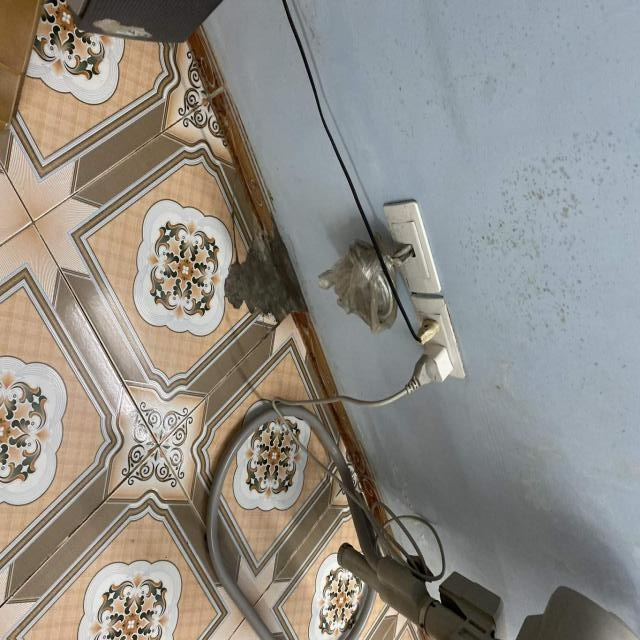outlet: (383, 200, 442, 294), (410, 295, 467, 380)
